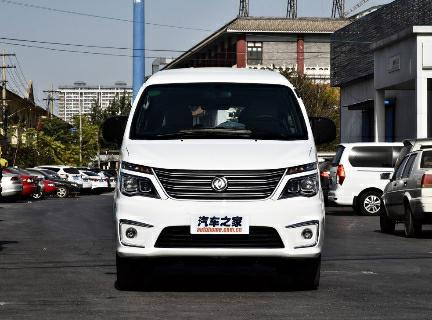东风风行-菱智: (108, 63, 332, 289)
